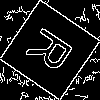R: (24, 24, 83, 81)
